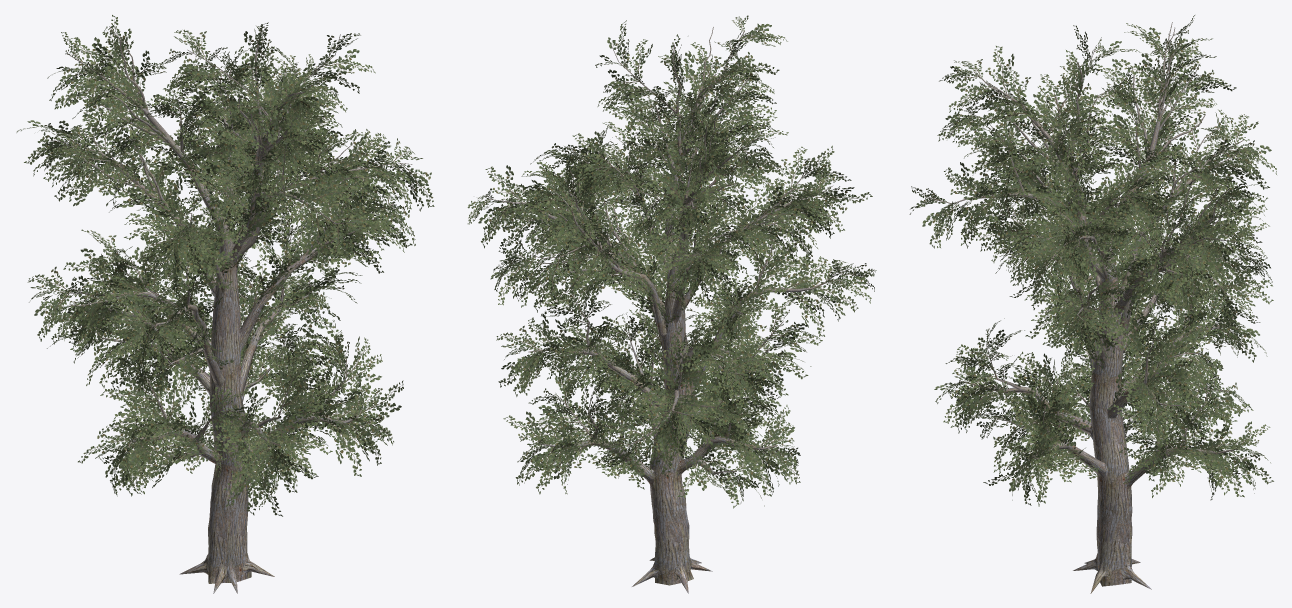
The model's file is SM_Ash01.fbx.
3 renders of one model, left to right at view 1: azimuth 30°, elevation 25°; view 2: azimuth 150°, elevation 25°; view 3: azimuth 270°, elevation 25°, orthographic. The views are drawn at different scales.
Visible parts, largest first — view 1: Ash01_LOD0; view 2: Ash01_LOD0; view 3: Ash01_LOD0.
Part boxes in pixels (bbox=[...]): Ash01_LOD0: bbox=[16, 15, 434, 593]; Ash01_LOD0: bbox=[467, 15, 876, 593]; Ash01_LOD0: bbox=[909, 15, 1276, 593].
Bounding box in the file's own units: 1032 × 1638 × 1036.
